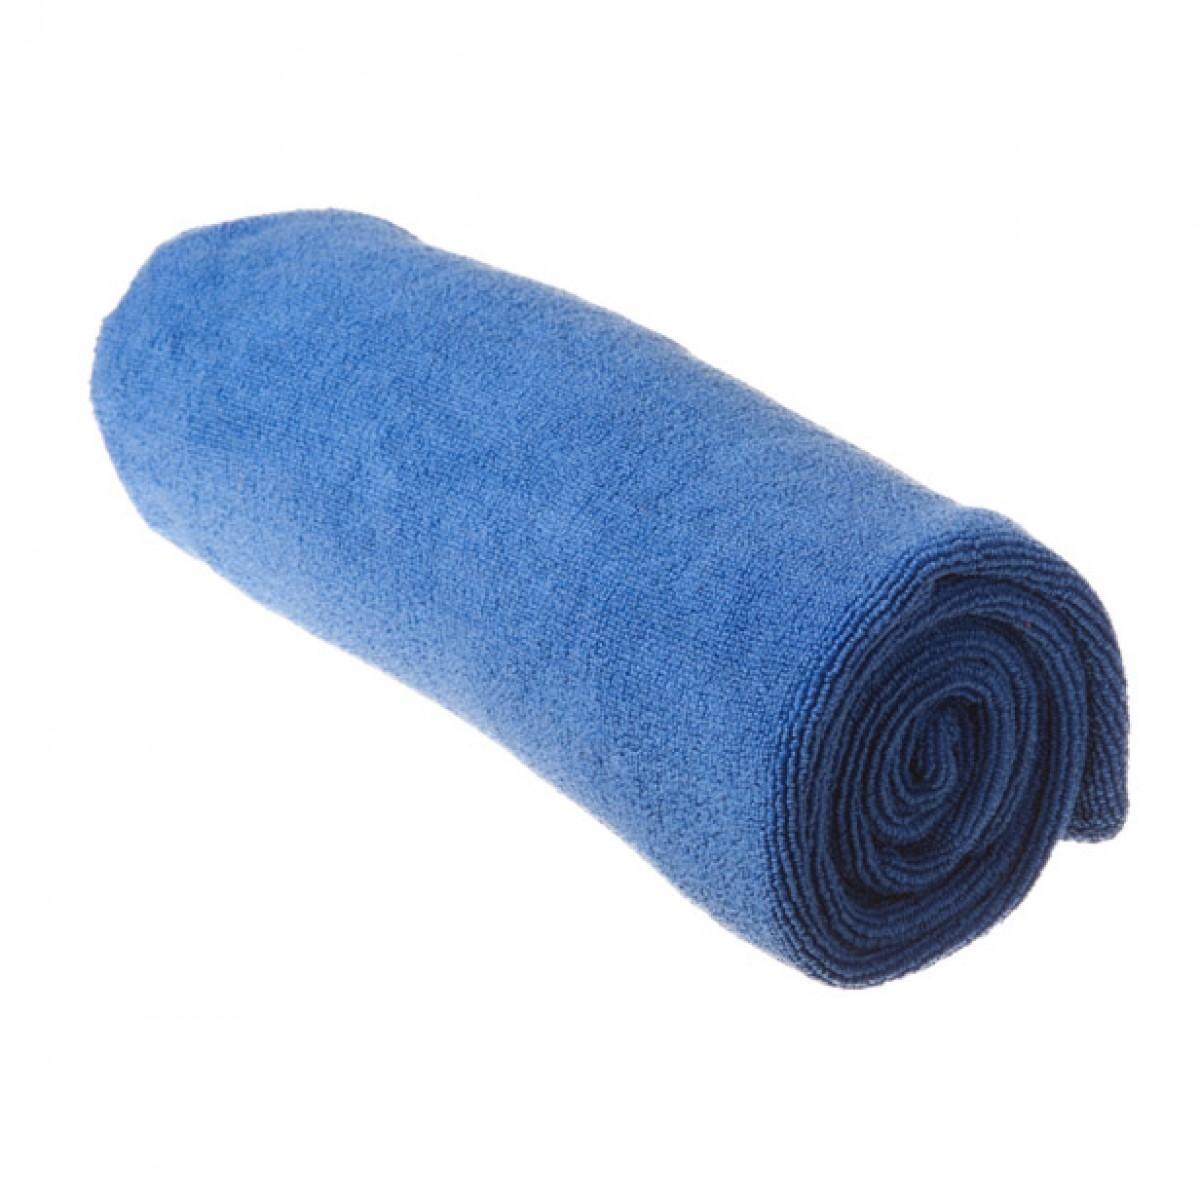towel: (47, 195, 1167, 995)
